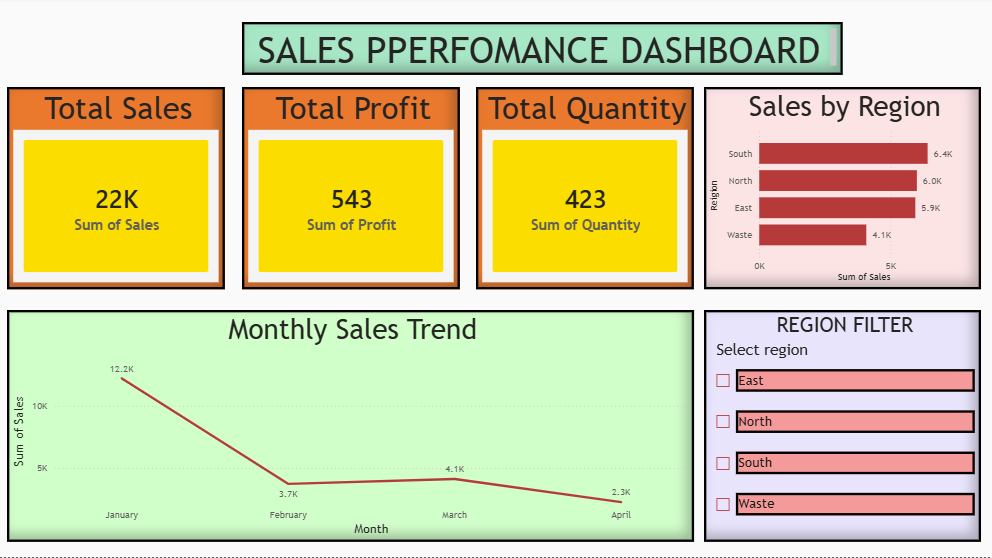

This screenshot's page, from the dashboard's own definition file:
{"tool":"powerbi","page":{"name":"MAIN DASHBOARD","canvas":[1280,720],"ordinal":0},"visuals":[{"type":"cardVisual","title":"Total Sales","fields":{"Data":["Sum(Practice.Sales)"]},"box":[10.3,115.7,280.2,259.6],"z":0},{"type":"cardVisual","title":"Total Profit","fields":{"Data":["Sum(Practice.Profit)"]},"box":[312.3,115.7,280.2,259.6],"z":1000},{"type":"cardVisual","title":"Total Quantity","fields":{"Data":["Sum(Practice.Quantity)"]},"box":[613,115.7,280.2,259.6],"z":2000},{"type":"lineChart","title":"Monthly Sales Trend","fields":{"Category":["Practice.Date.Variation.Date Hierarchy.Month"],"Y":["Sum(Practice.Sales)"]},"box":[10.3,402.2,882.9,298.2],"z":3000},{"type":"clusteredBarChart","title":"Sales by Region","fields":{"Category":["Practice.Reigion"],"Y":["Sum(Practice.Sales)"]},"box":[906,115.7,356,259.6],"z":4000},{"type":"slicer","title":"REGION FILTER","fields":{"Values":["Practice.Reigion"]},"box":[906,402.2,356,298.2],"z":5000},{"type":"textbox","box":[312.3,32.1,772.4,68.1],"z":6000}]}

Visuals, with their boxes in screenshot pixels (x1, y1, x2, y2), scaled from the page's 1280x720 canvas onto the 992x558 screenshot:
"Total Sales" cardVisual: bbox=[8, 90, 225, 291]
"Total Profit" cardVisual: bbox=[242, 90, 459, 291]
"Total Quantity" cardVisual: bbox=[475, 90, 692, 291]
"Monthly Sales Trend" lineChart: bbox=[8, 312, 692, 543]
"Sales by Region" clusteredBarChart: bbox=[702, 90, 978, 291]
"REGION FILTER" slicer: bbox=[702, 312, 978, 543]
textbox: bbox=[242, 25, 841, 78]
